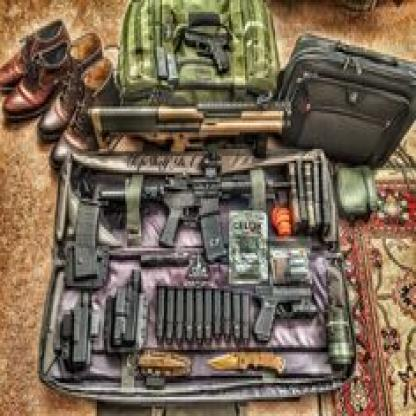Gun: (95, 153, 293, 263), (88, 103, 291, 157)
Knife: (206, 350, 288, 380)
Pistol: (253, 284, 317, 347), (182, 28, 231, 76)
